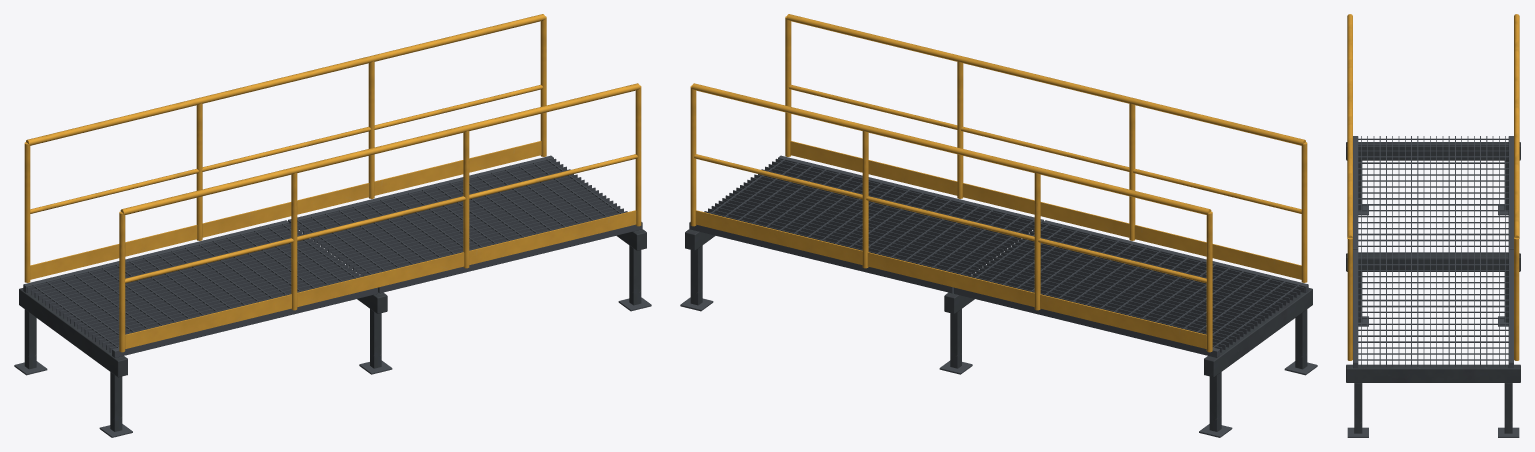
File: PassageCatwalk.glb
The picture shows the model from 3 angles, left to right: view 1: azimuth 30°, elevation 25°; view 2: azimuth 150°, elevation 25°; view 3: azimuth 270°, elevation 25°; orthographic projection. The views are drawn at different scales.
Parts seen in each view (by area): view 1: PassageCatwalk_Body; view 2: PassageCatwalk_Body; view 3: PassageCatwalk_Body.
Part boxes in pixels (x1,y1,x2,y2): PassageCatwalk_Body: (14,14,651,437); PassageCatwalk_Body: (680,14,1317,437); PassageCatwalk_Body: (1346,14,1520,437).
Size of the model in its own units: 4.08 by 1.62 by 1.3.
3 materials, 2 textured.
